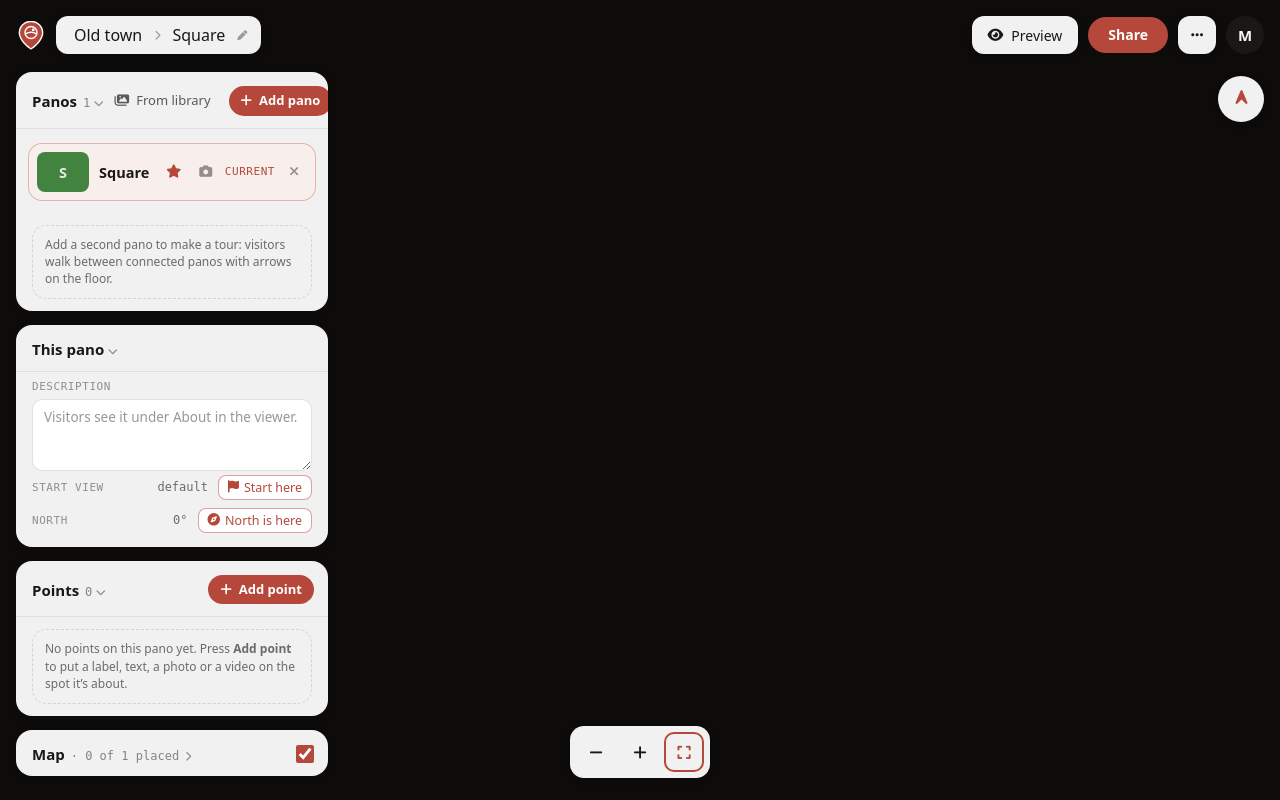
Test case: editor: add from library › lists ready panos only, newest first, with the ones already in the tour marked
This screenshot has width=1280, height=800.
What coordinates should you click on to do the following:
click the button "From library"
I would click on:
 (163, 101)
Its box is [103, 86, 223, 116].
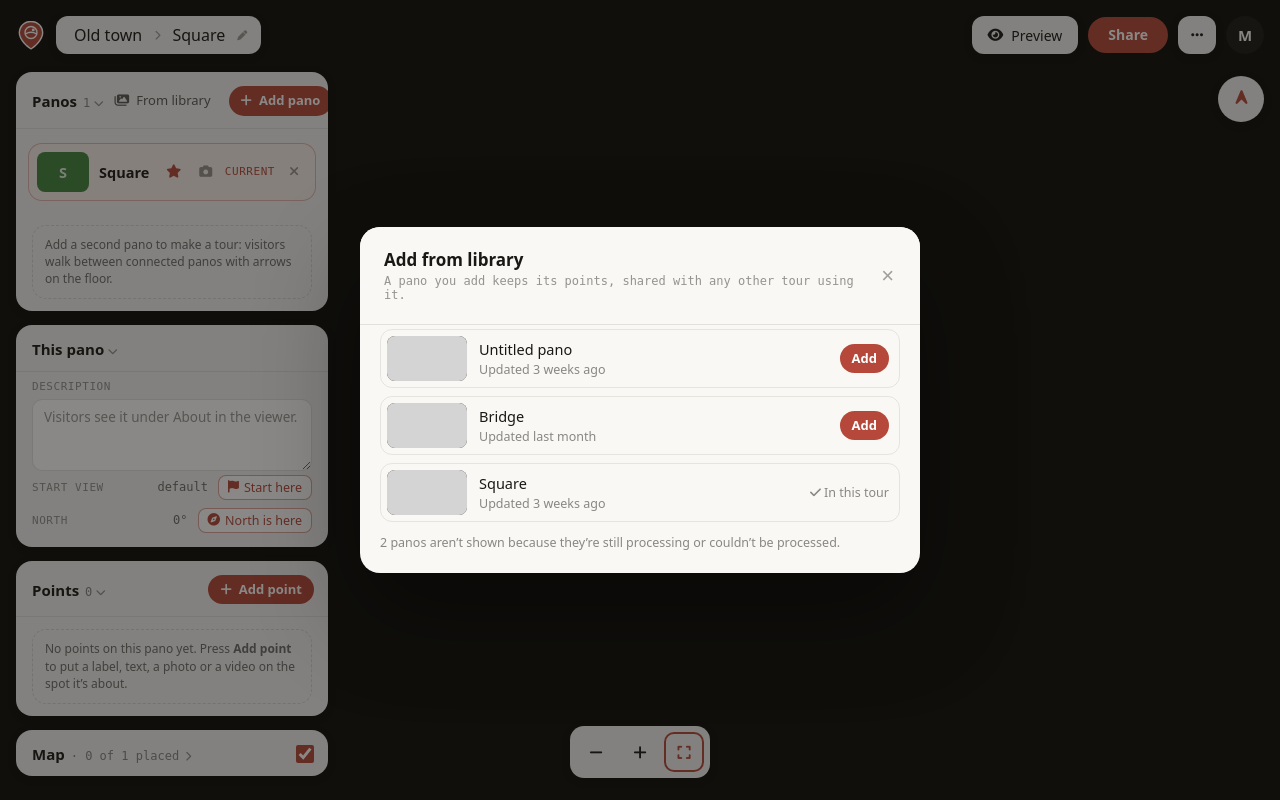
Check: the text "In this tour" is shown, box [810, 484, 889, 501]
Check: the text "2 panos aren’t shown" is shown, box [380, 534, 840, 551]
